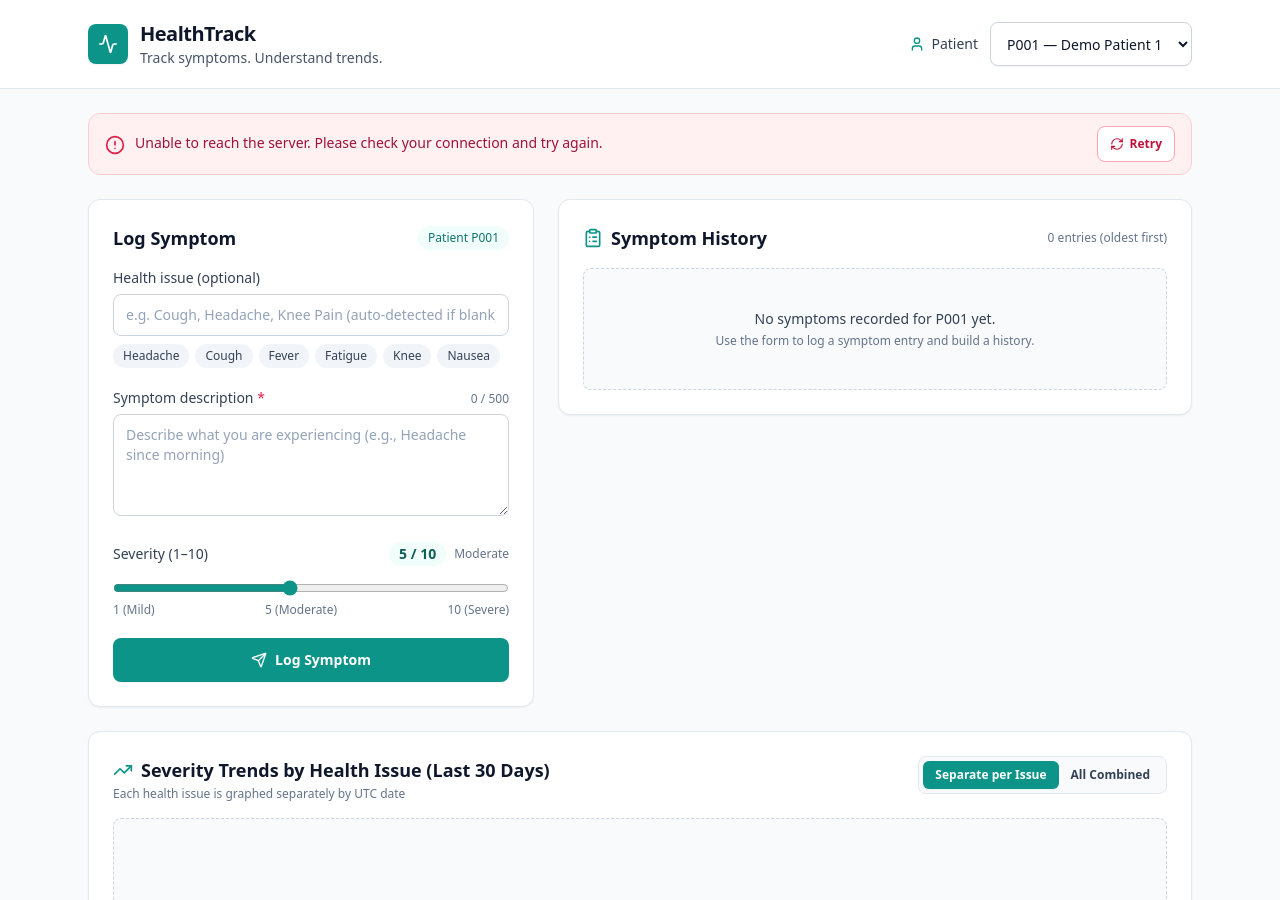
Scenario: HealthTrack App › prioritizes submission error over an earlier fetch error while keeping Retry available
Expected: the message shows "Unable to reach the server", left=135, top=133, right=603, bottom=152
Type "Offline chest tightness" into the text box labelled "Symptom description *".
click(311, 465); type("Offline chest tightness")  # box left=113, top=414, right=509, bottom=516
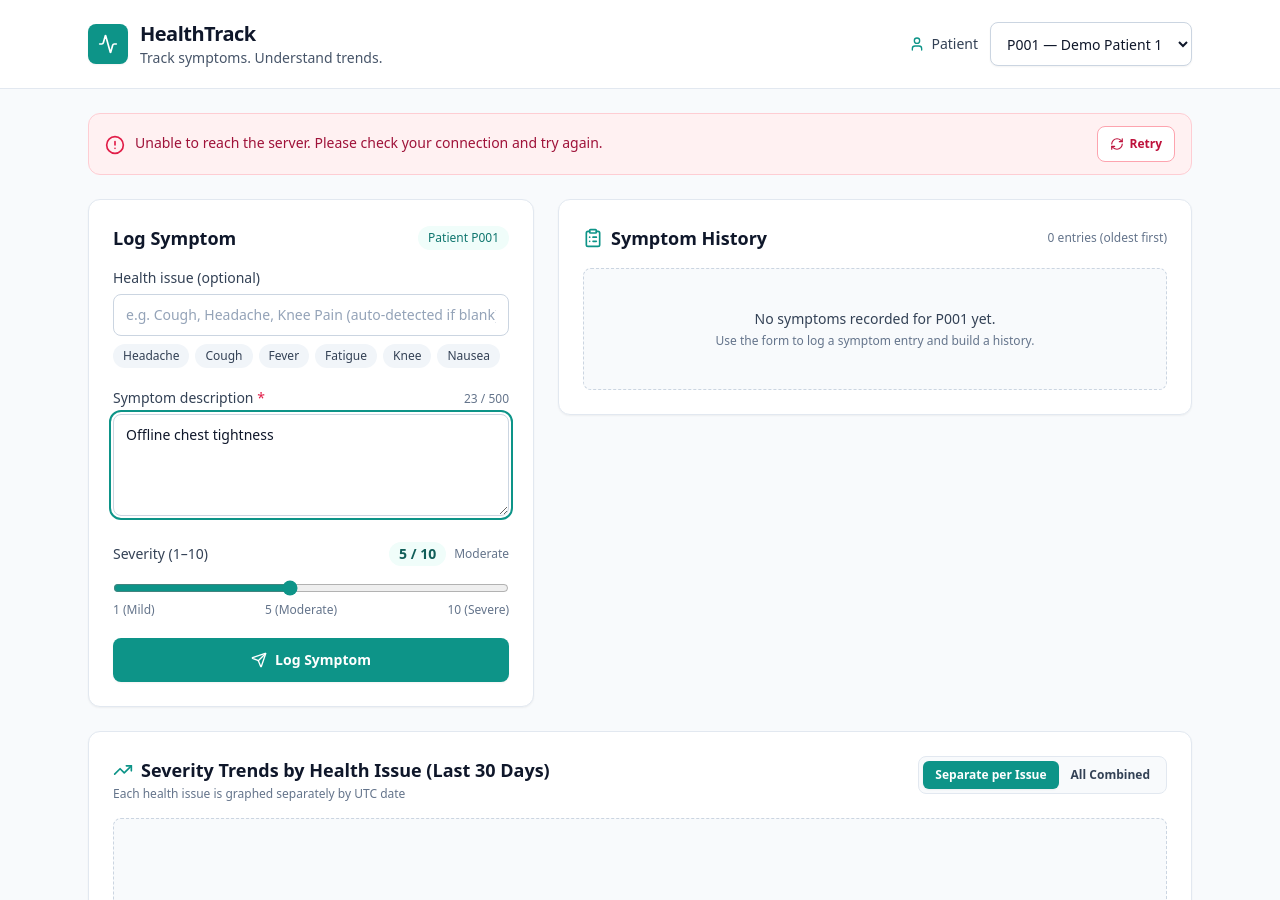
Click the button "Log Symptom".
click(311, 660)  # box left=113, top=638, right=509, bottom=682
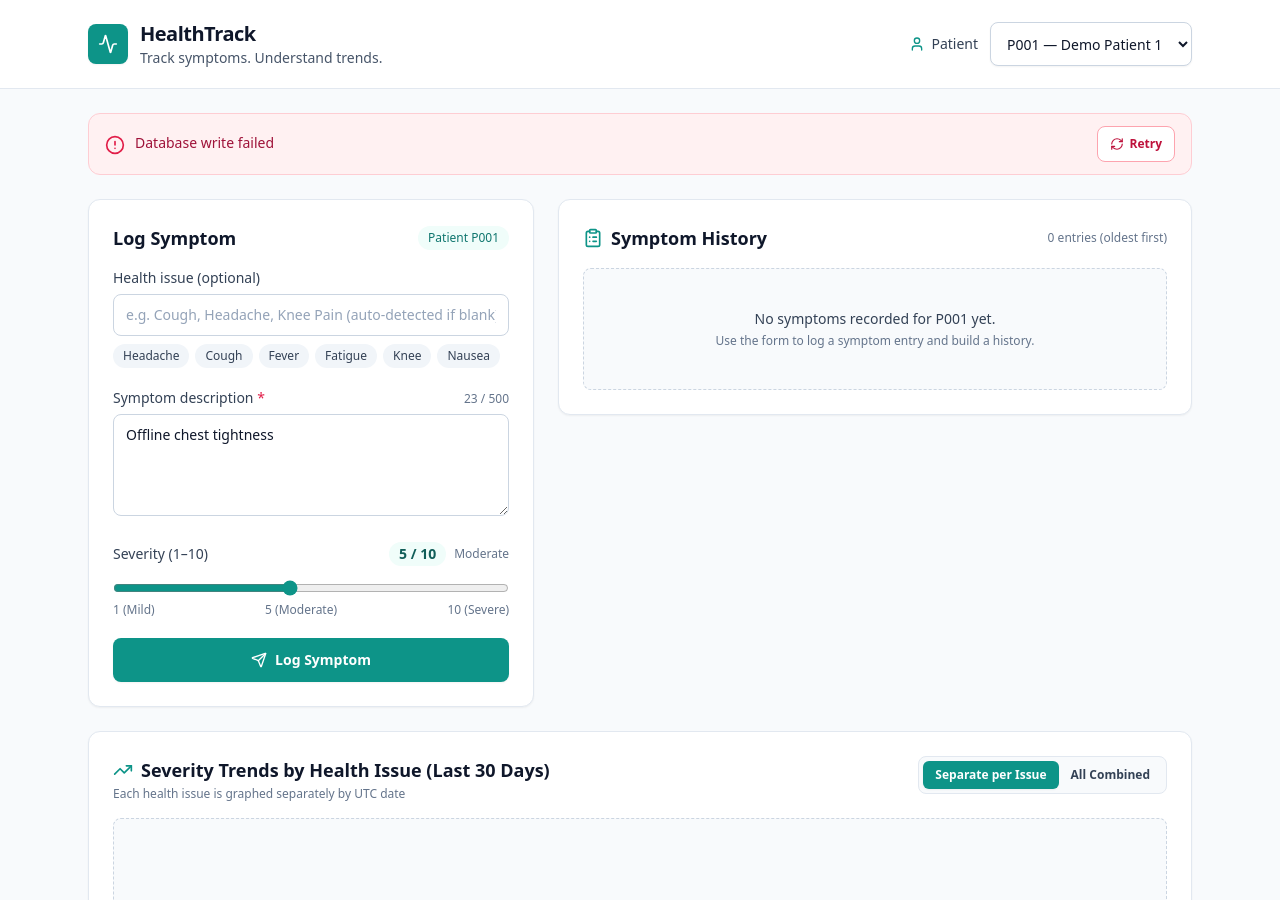
Expected: the button "Retry" is shown, left=1096, top=126, right=1175, bottom=162
Now the message shows "Database write failed", box left=135, top=133, right=274, bottom=152
